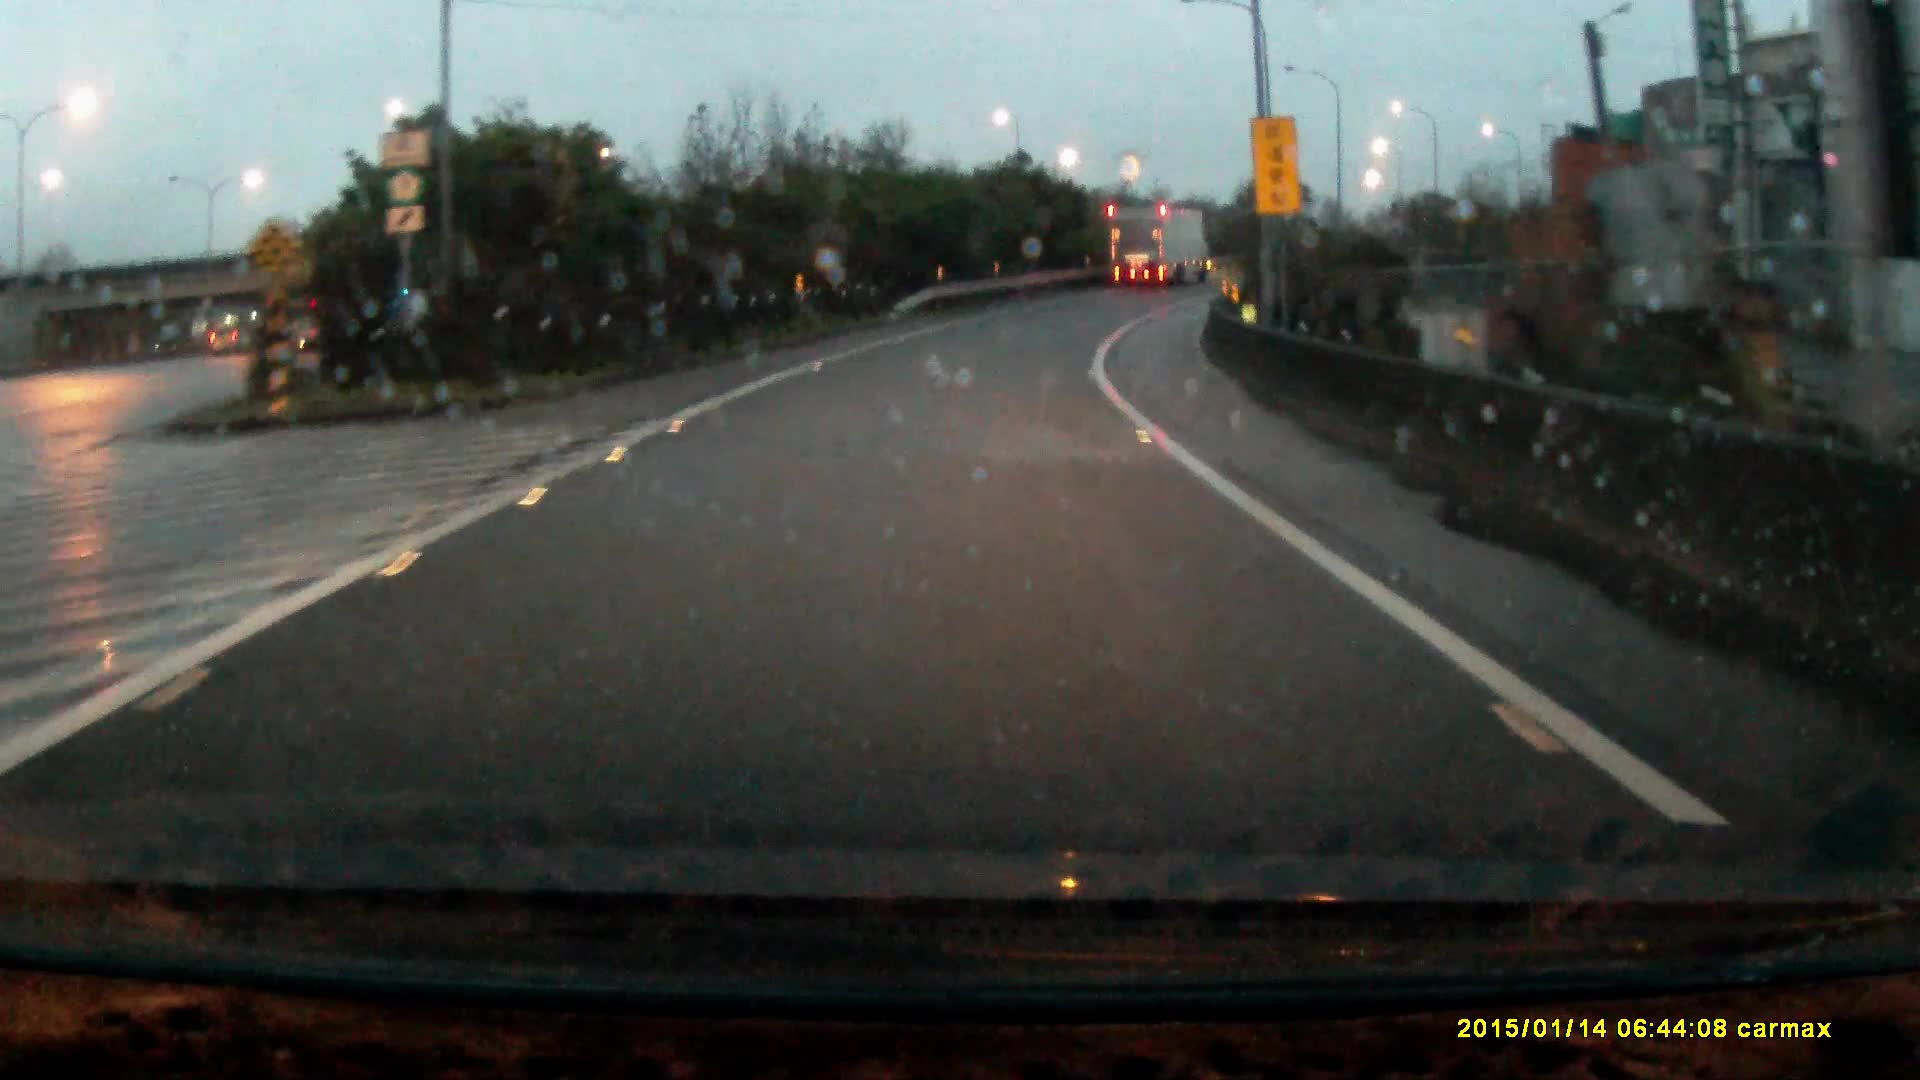vehicle: (1108, 203, 1209, 287)
